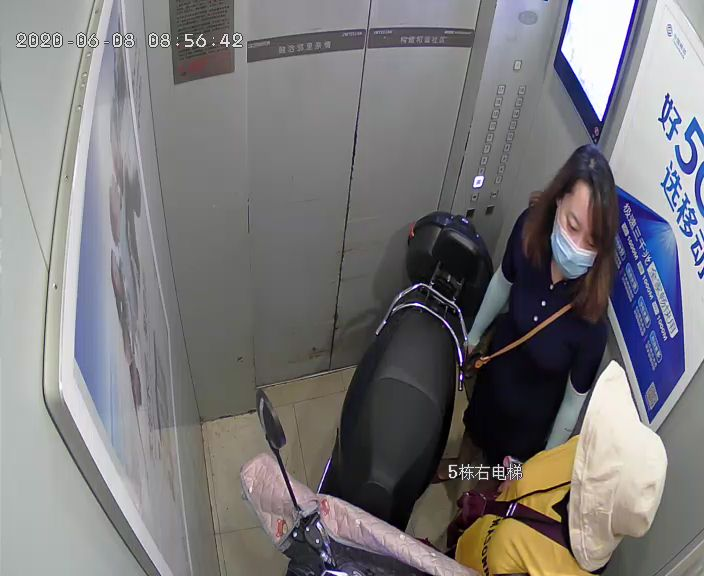Electric-bicycle: (287, 211, 489, 576)
